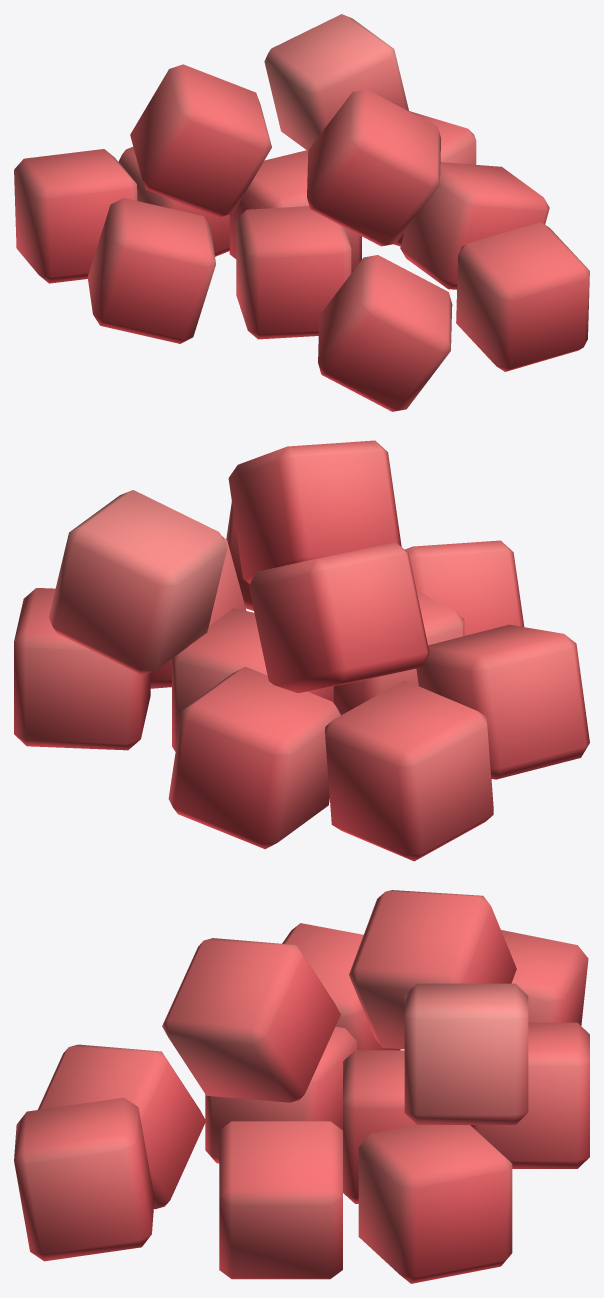
File: meat_chopped.glb
The picture shows the model from 3 angles, top to bottom: view 1: azimuth 30°, elevation 25°; view 2: azimuth 150°, elevation 25°; view 3: azimuth 270°, elevation 25°; orthographic projection. The views are drawn at different scales.
Parts seen in each view (by area): view 1: food_ingredient_steak_pieces; view 2: food_ingredient_steak_pieces; view 3: food_ingredient_steak_pieces.
Part boxes in pixels (x1,y1,x2,y2): food_ingredient_steak_pieces: [14, 14, 589, 411]; food_ingredient_steak_pieces: [14, 440, 589, 861]; food_ingredient_steak_pieces: [14, 890, 589, 1283].
Size of the model in its own units: 0.9303 by 0.5141 by 0.9322.
Materials: 1 (1 with a texture image).
